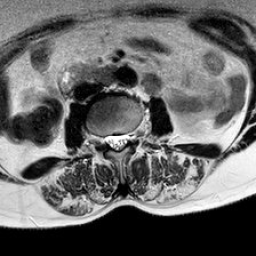CCS_stenosis: (113, 124, 121, 161)
LFS_normal: (129, 120, 137, 150)
LLS_normal: (121, 124, 129, 153)
RFS_normal: (97, 125, 105, 153)
RLS_normal: (105, 125, 113, 153)
